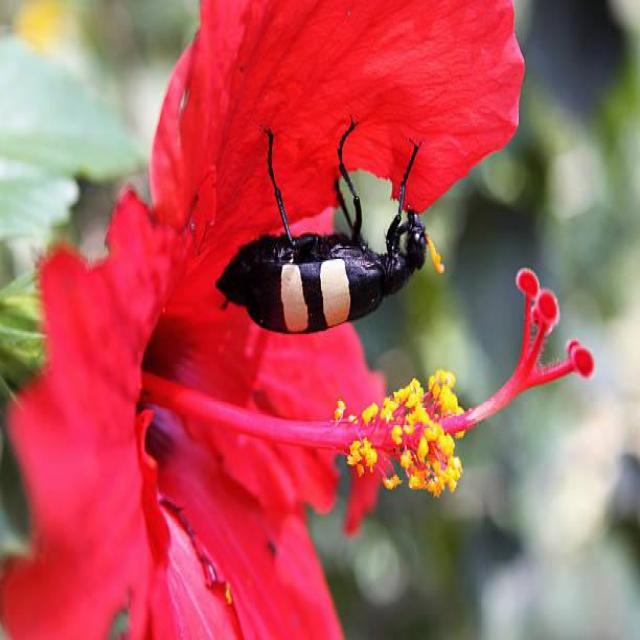BlisterBeetle-Adult-: (203, 108, 452, 340)
